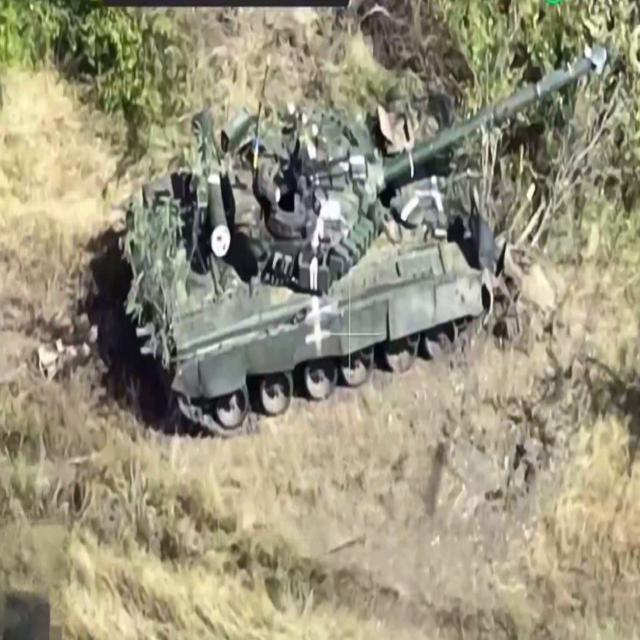MBT: (120, 48, 608, 439)
